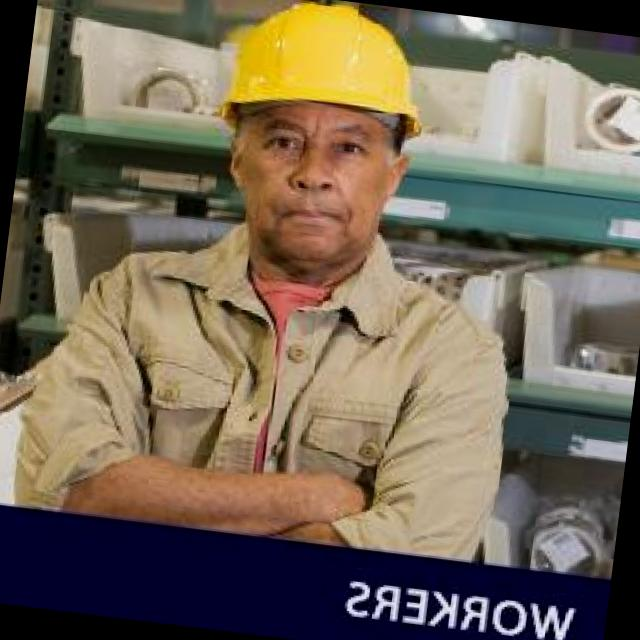helmet: (198, 0, 458, 146)
no-goggles: (212, 99, 426, 187)
no-vest: (17, 215, 527, 558)
